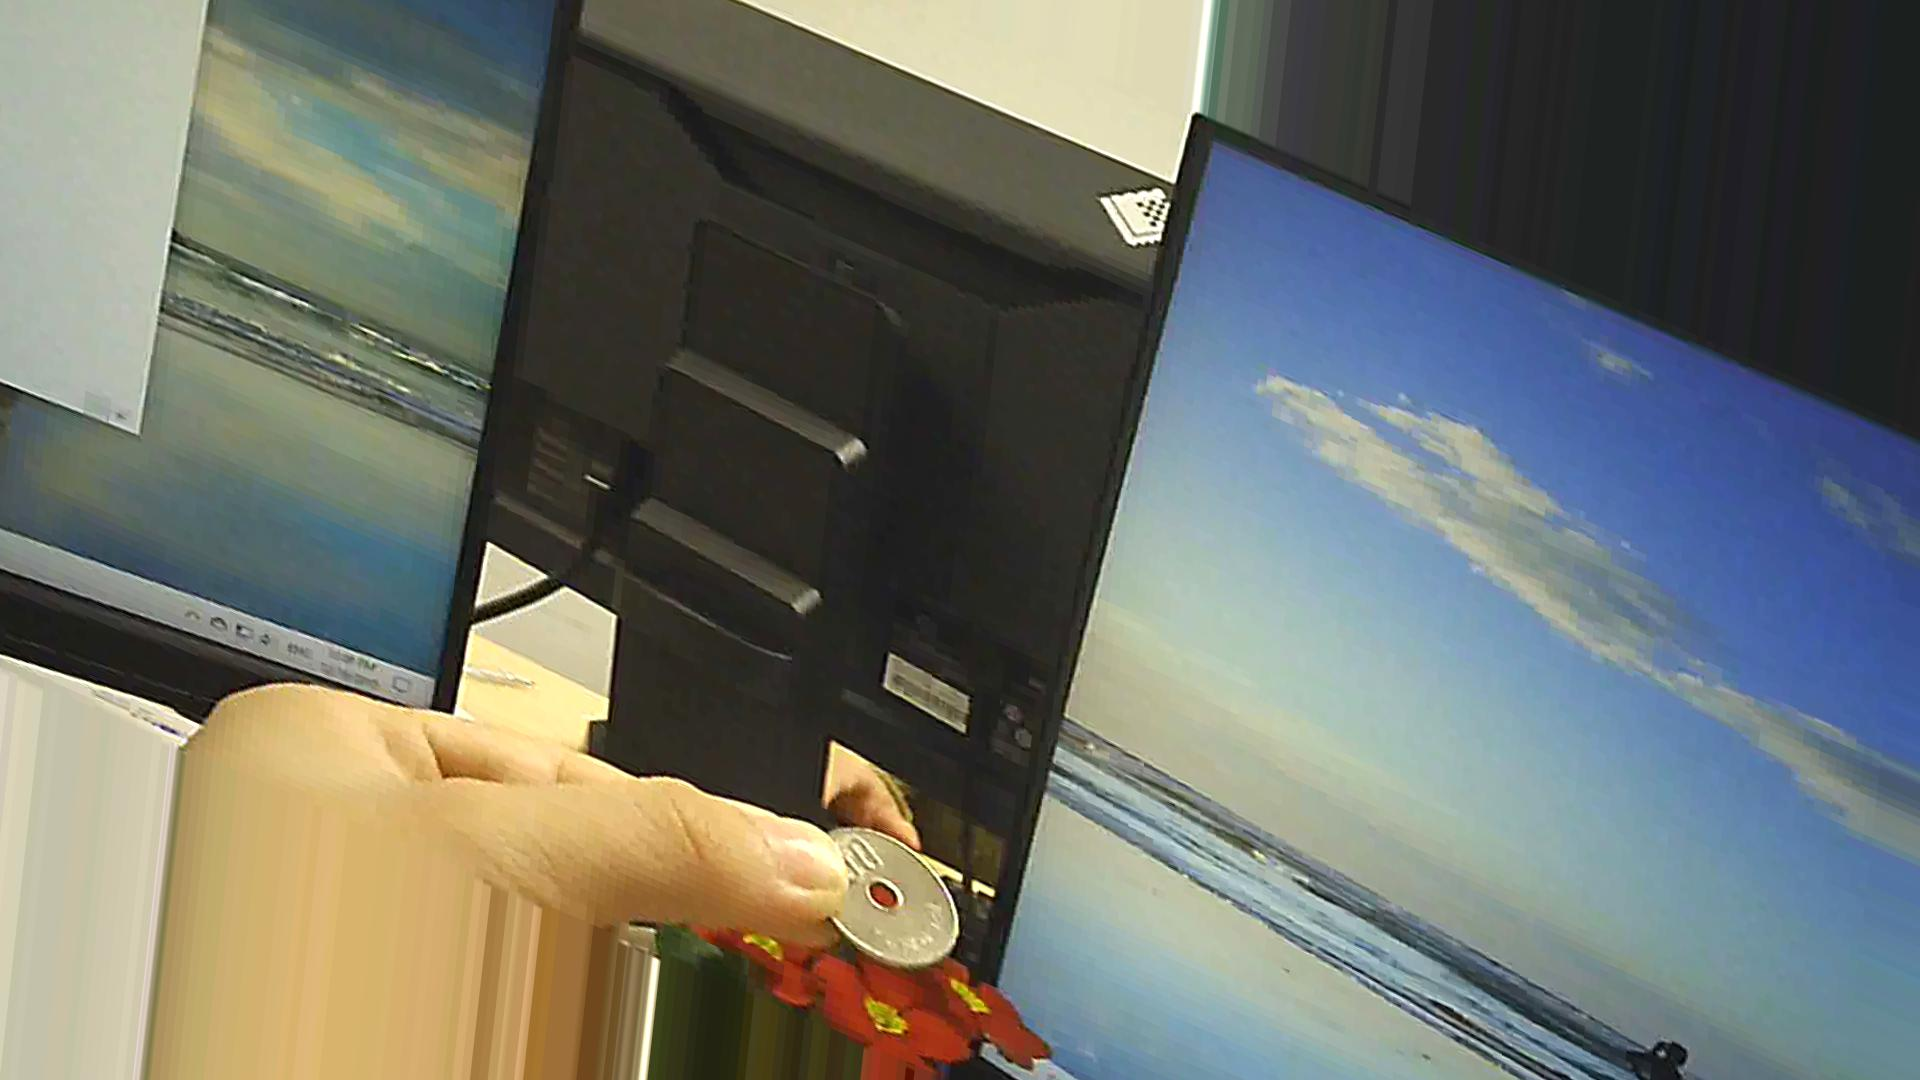50 Yen: (795, 804, 965, 973)
